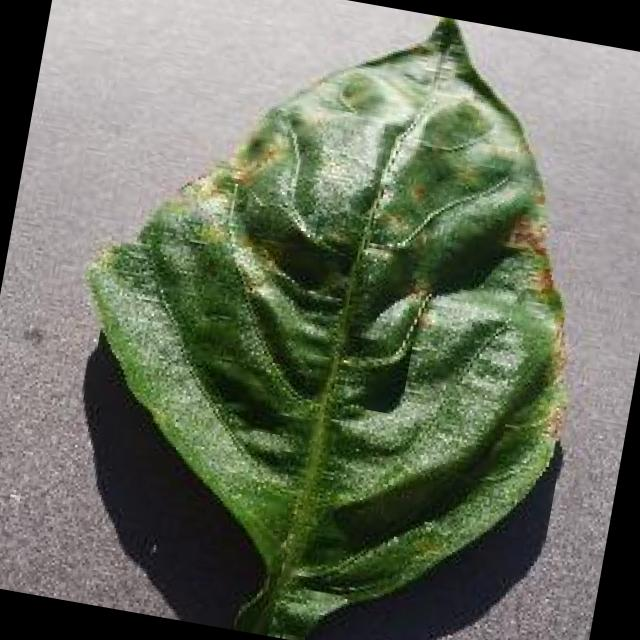Chilli_Bacterial_Spot: (26, 0, 634, 640), (328, 64, 392, 123), (418, 14, 472, 59), (399, 172, 434, 210), (427, 14, 464, 36)
